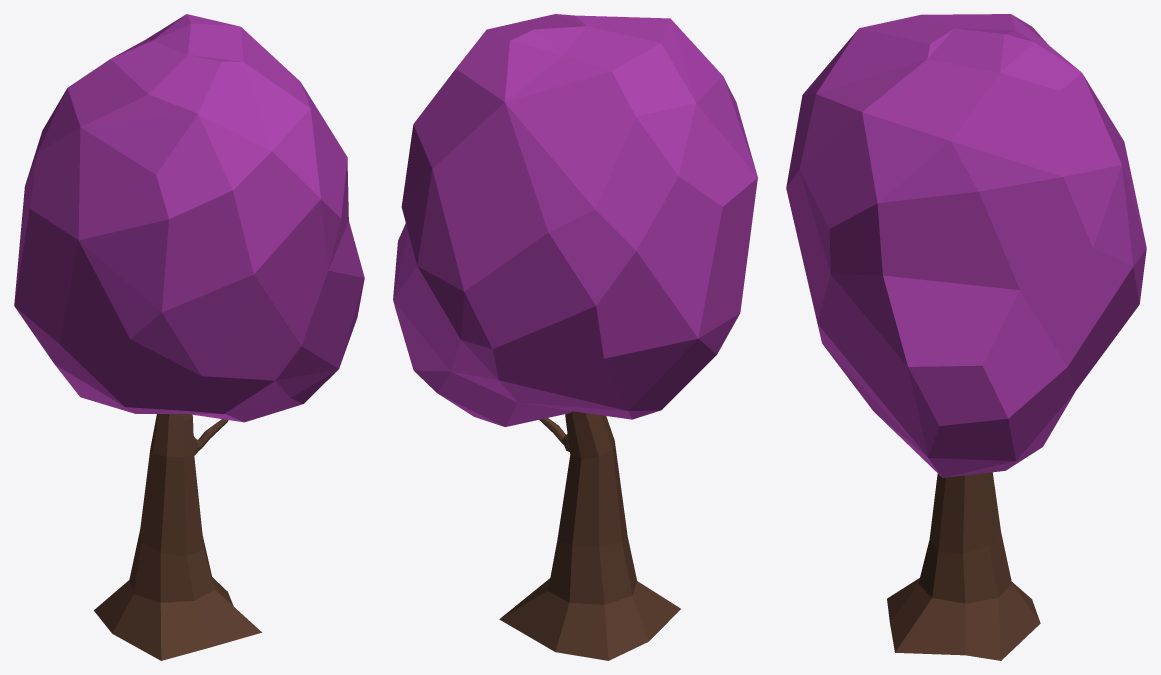
Rendered from tree2.fbx.
3 renders of one model, left to right at view 1: azimuth 30°, elevation 25°; view 2: azimuth 150°, elevation 25°; view 3: azimuth 270°, elevation 25°, orthographic. The views are drawn at different scales.
Visible parts, largest first — view 1: Sphere; view 2: Sphere; view 3: Sphere.
Boxes of the visible parts, x1,y1,x2,y2 form: Sphere: (14, 14, 364, 660); Sphere: (393, 14, 757, 660); Sphere: (786, 14, 1146, 660).
Bounding box in the file's own units: 123 × 217 × 116.
